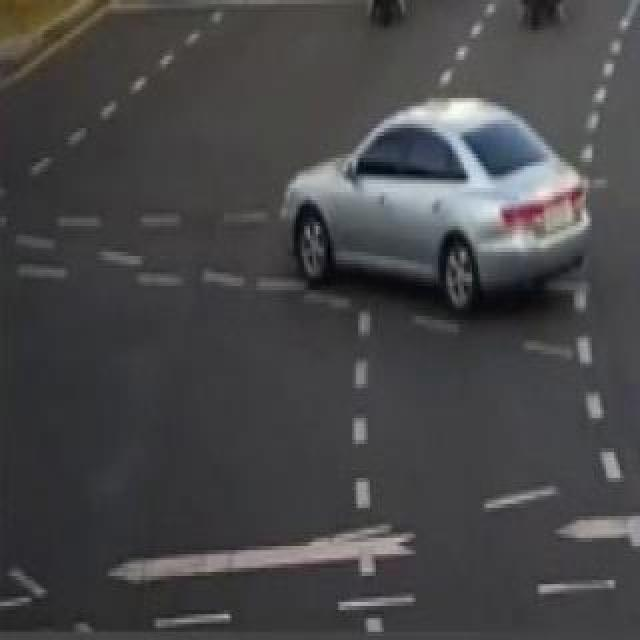motorbike: (514, 0, 576, 40), (350, 0, 410, 10)
